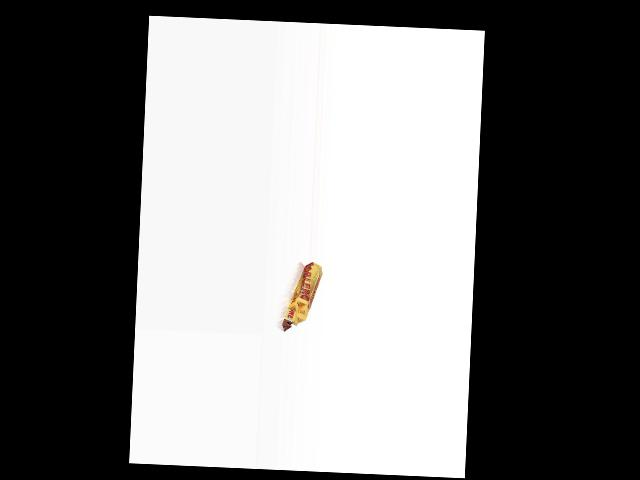chocolate: (278, 261, 323, 333)
